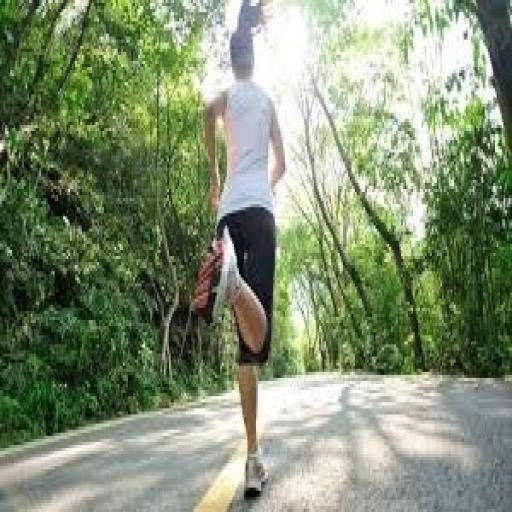running: (194, 12, 288, 500)
